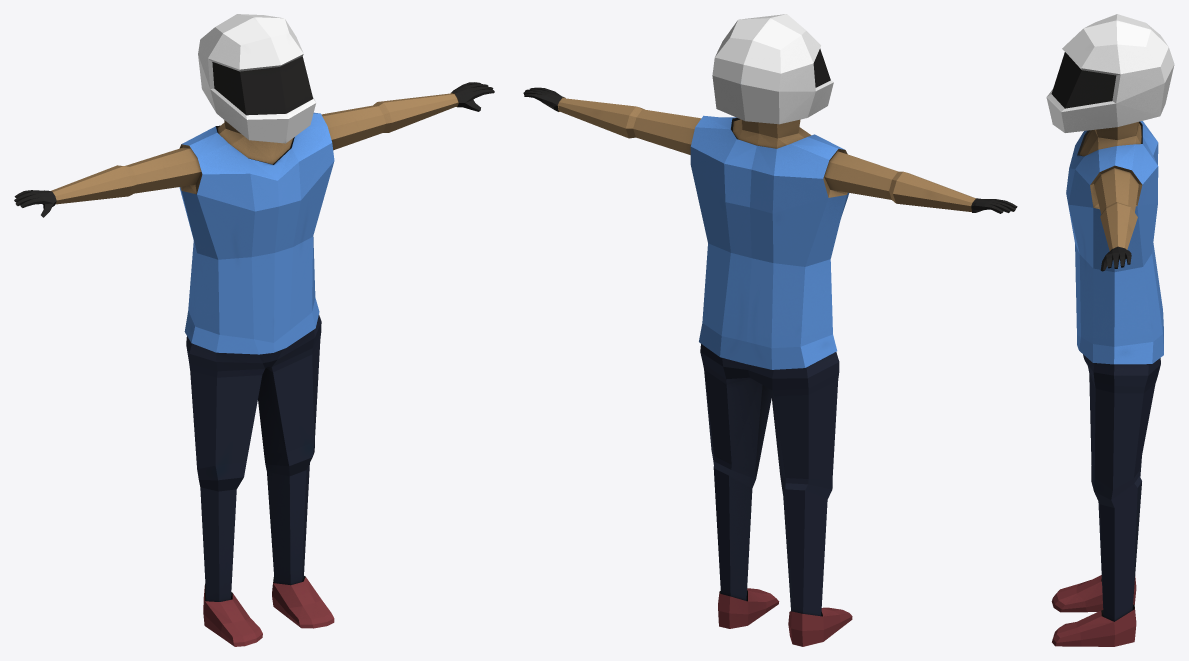
File: models_jumper.fbx
The picture shows the model from 3 angles, left to right: view 1: azimuth 30°, elevation 25°; view 2: azimuth 150°, elevation 25°; view 3: azimuth 270°, elevation 25°; orthographic projection. The views are drawn at different scales.
Parts seen in each view (by area): view 1: Cube; view 2: Cube; view 3: Cube.
Part boxes in pixels (<box>): Cube: <box>14,14,494,646</box>; Cube: <box>523,14,1017,646</box>; Cube: <box>1046,14,1174,646</box>.
Size of the model in its own units: 1.47 by 1.75 by 0.3382.
